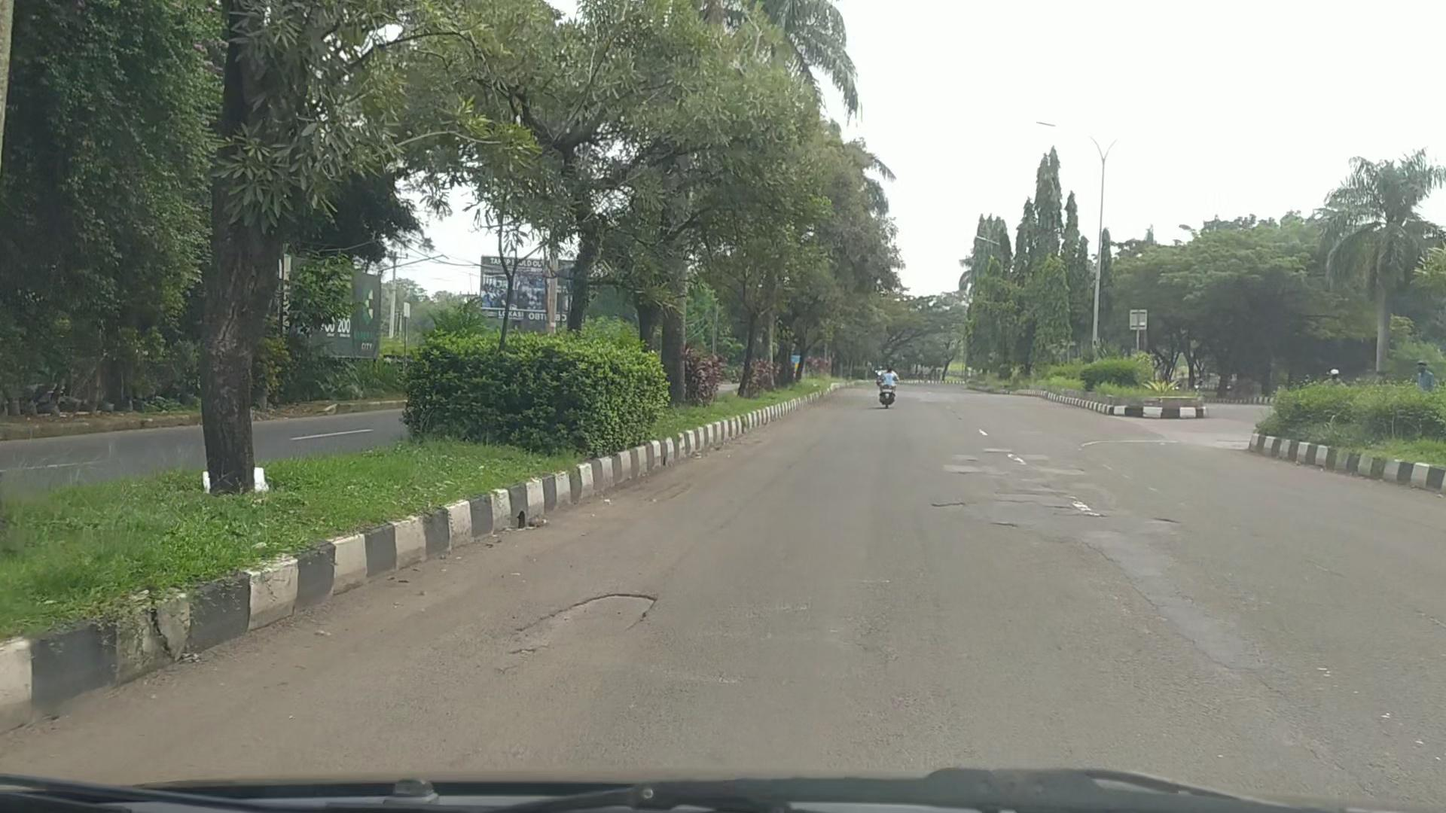pothole: (514, 591, 662, 646)
